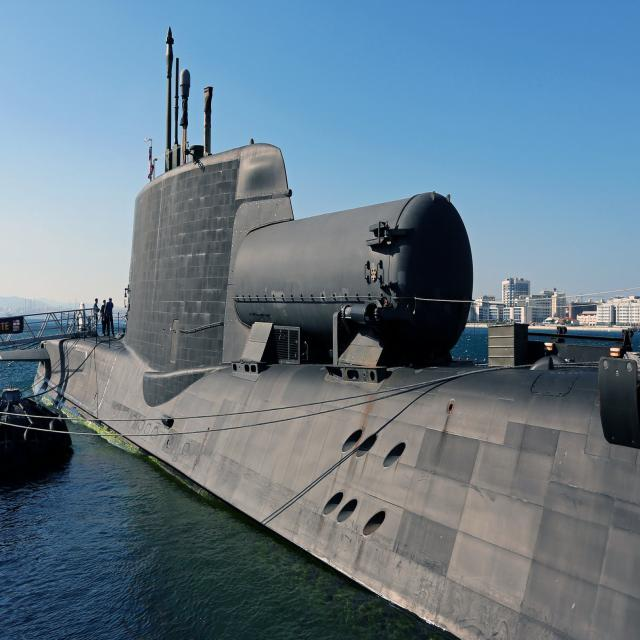submarine: (24, 9, 640, 640)
